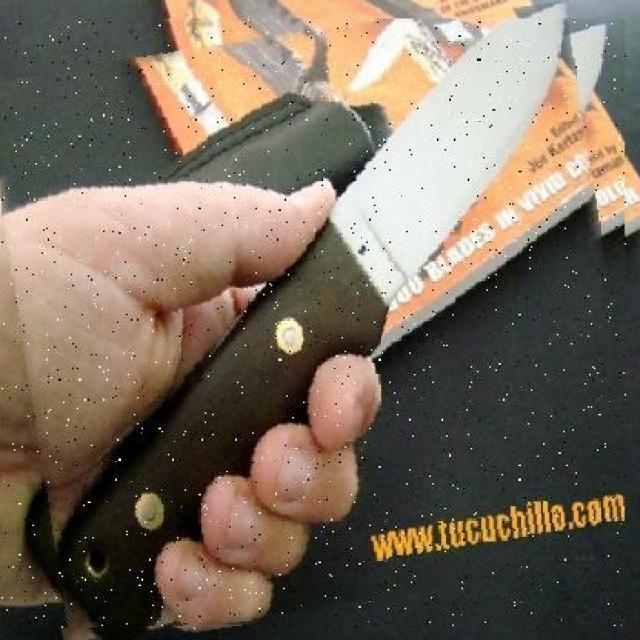knife: (2, 18, 627, 630)
